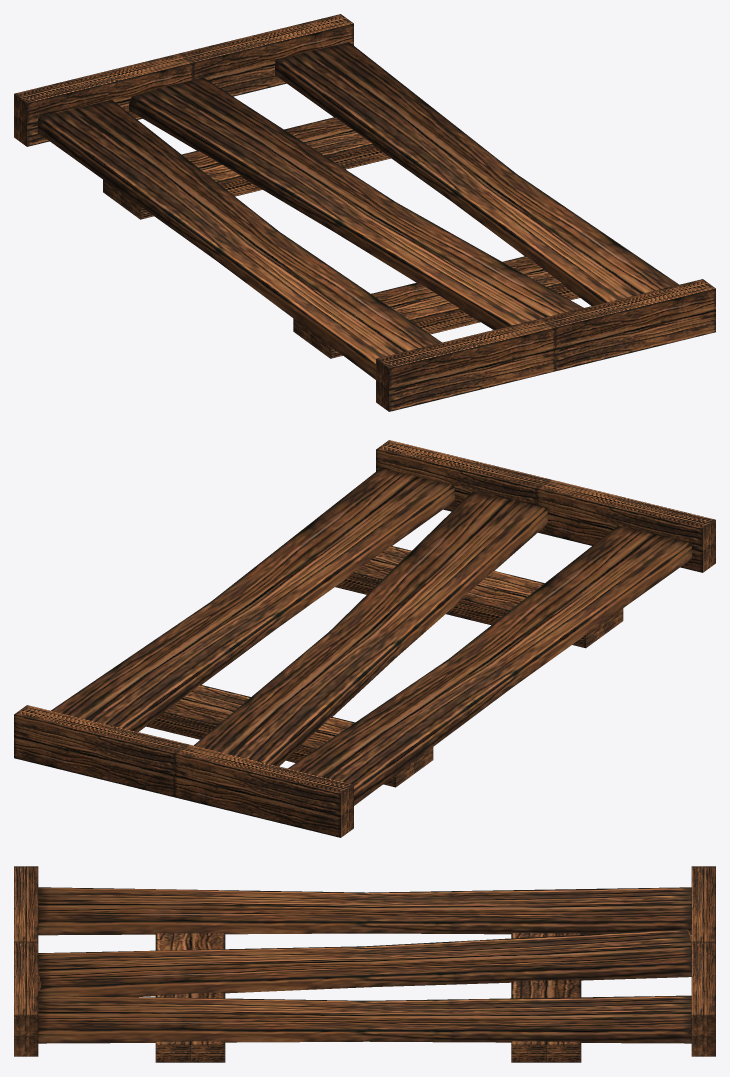
Rendered from RM_FLOATING_PLATFORM01.fbx.
3 renders of one model, top to bottom at view 1: azimuth 30°, elevation 25°; view 2: azimuth 150°, elevation 25°; view 3: azimuth 270°, elevation 25°, orthographic. The views are drawn at different scales.
Parts seen in each view (by area): view 1: RM_FLOATING_PLATFORM01; view 2: RM_FLOATING_PLATFORM01; view 3: RM_FLOATING_PLATFORM01.
Part boxes in pixels (x1,y1,x2,y2): RM_FLOATING_PLATFORM01: (14,14,715,411); RM_FLOATING_PLATFORM01: (14,440,715,837); RM_FLOATING_PLATFORM01: (14,866,715,1062).
Size of the model in its own units: 18013 by 2635 by 35801.
Materials: 1 (1 with a texture image).
